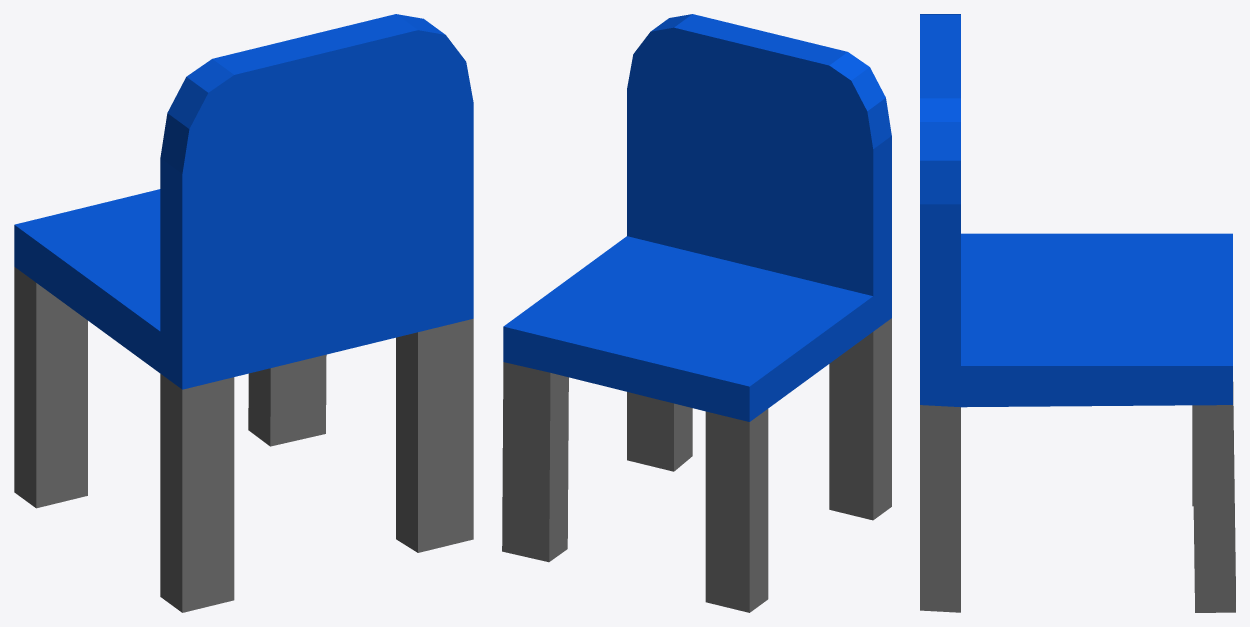
File: chair.fbx
The picture shows the model from 3 angles, left to right: view 1: azimuth 30°, elevation 25°; view 2: azimuth 150°, elevation 25°; view 3: azimuth 270°, elevation 25°; orthographic projection. The views are drawn at different scales.
Visible parts, largest first — view 1: Cube; view 2: Cube; view 3: Cube.
Part boxes in pixels (left/top/right/bottom): Cube: left=14, top=14, right=473, bottom=612; Cube: left=502, top=14, right=891, bottom=612; Cube: left=920, top=14, right=1235, bottom=612.
Size of the model in its own units: 200 by 346 by 202.
